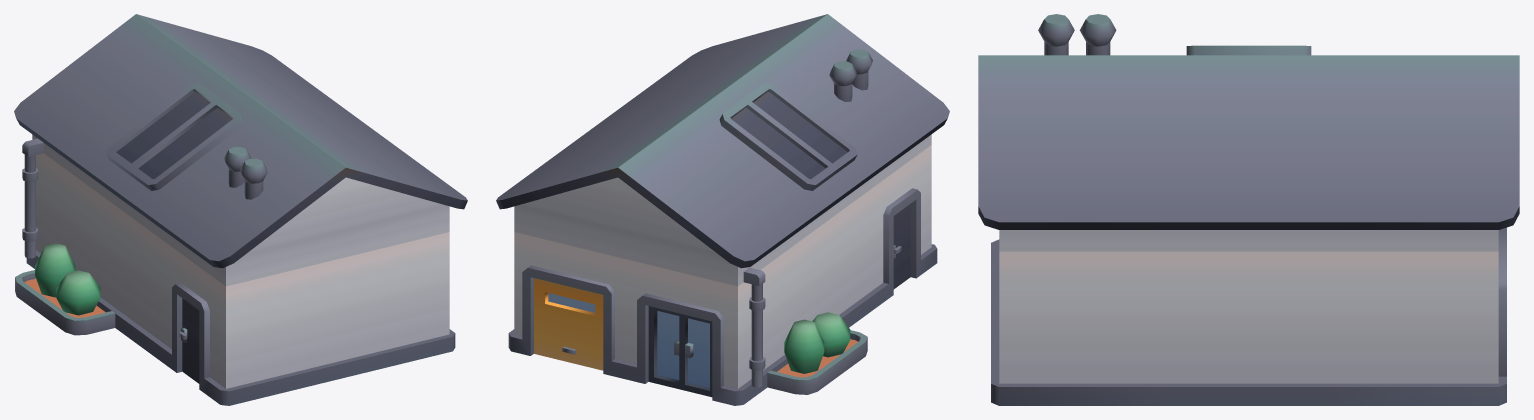
Rendered from ind_building_i.glb.
3 renders of one model, left to right at view 1: azimuth 30°, elevation 25°; view 2: azimuth 150°, elevation 25°; view 3: azimuth 270°, elevation 25°, orthographic. The views are drawn at different scales.
Visible parts, largest first — view 1: building-i; view 2: building-i; view 3: building-i.
Part boxes in pixels (<box>): building-i: <box>14,14,467,405</box>; building-i: <box>496,14,949,405</box>; building-i: <box>978,14,1519,405</box>.
Bounding box in the file's own units: 1.03 × 0.7335 × 1.3.
1 material, 1 textured.
